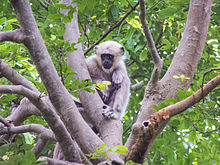langur: (84, 36, 130, 116)
